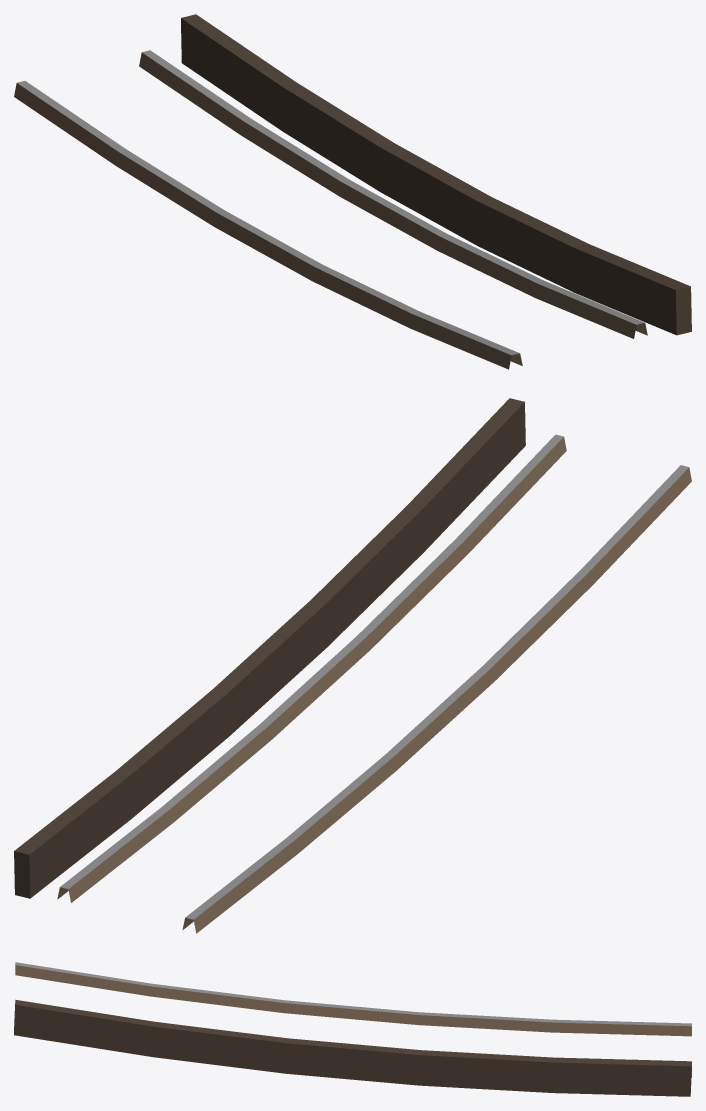
Rendered from SW_ENV_TrackRiser_A_Collision.fbx.
The picture shows the model from 3 angles, top to bottom: view 1: azimuth 30°, elevation 25°; view 2: azimuth 150°, elevation 25°; view 3: azimuth 270°, elevation 25°; orthographic projection. The views are drawn at different scales.
Parts seen in each view (by area): view 1: SW_ENV_TrackRiser_A_Collision; view 2: SW_ENV_TrackRiser_A_Collision; view 3: SW_ENV_TrackRiser_A_Collision.
Boxes of the visible parts, bbox=[...] form: SW_ENV_TrackRiser_A_Collision: bbox=[14, 14, 691, 369]; SW_ENV_TrackRiser_A_Collision: bbox=[14, 398, 691, 933]; SW_ENV_TrackRiser_A_Collision: bbox=[14, 962, 691, 1096].
Size of the model in its own units: 212 by 150 by 1002.
